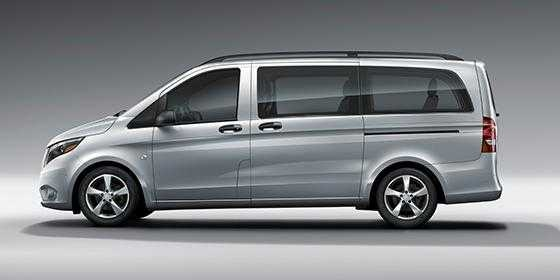van: (37, 49, 502, 230)
